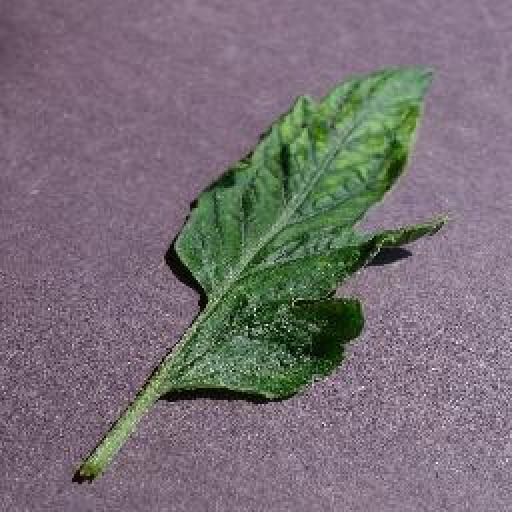Mosaic Virus: (154, 63, 448, 402)
